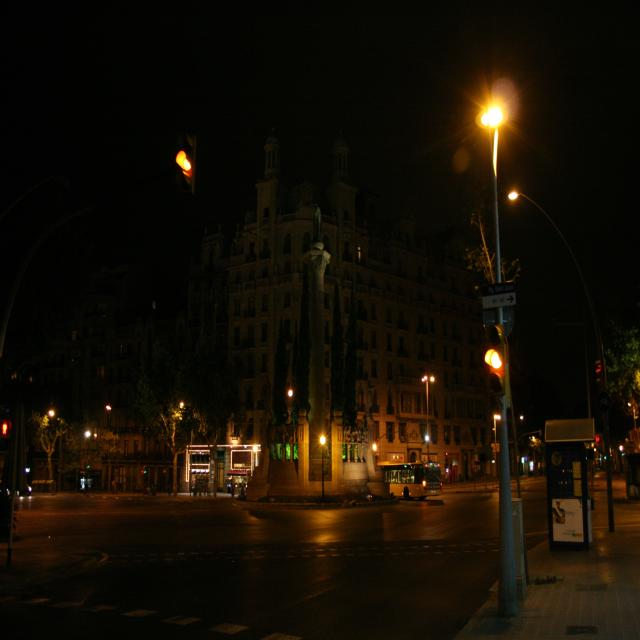Bus: (382, 454, 456, 504)
